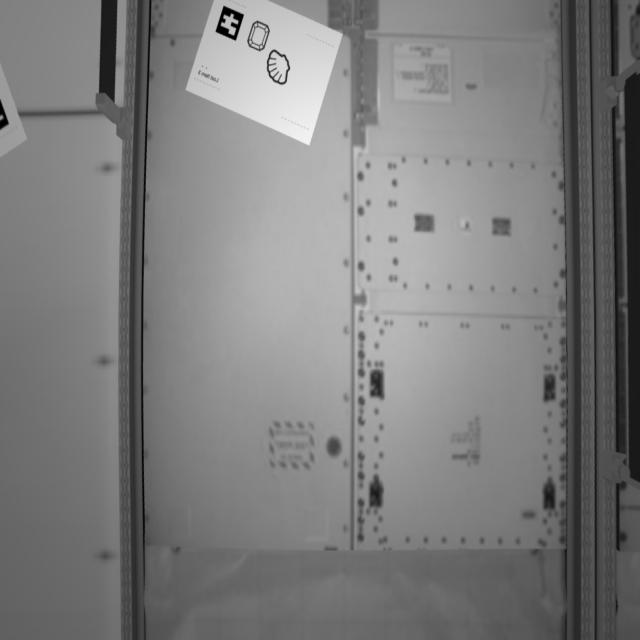emerald: (248, 16, 273, 53)
shell: (263, 46, 293, 91)
